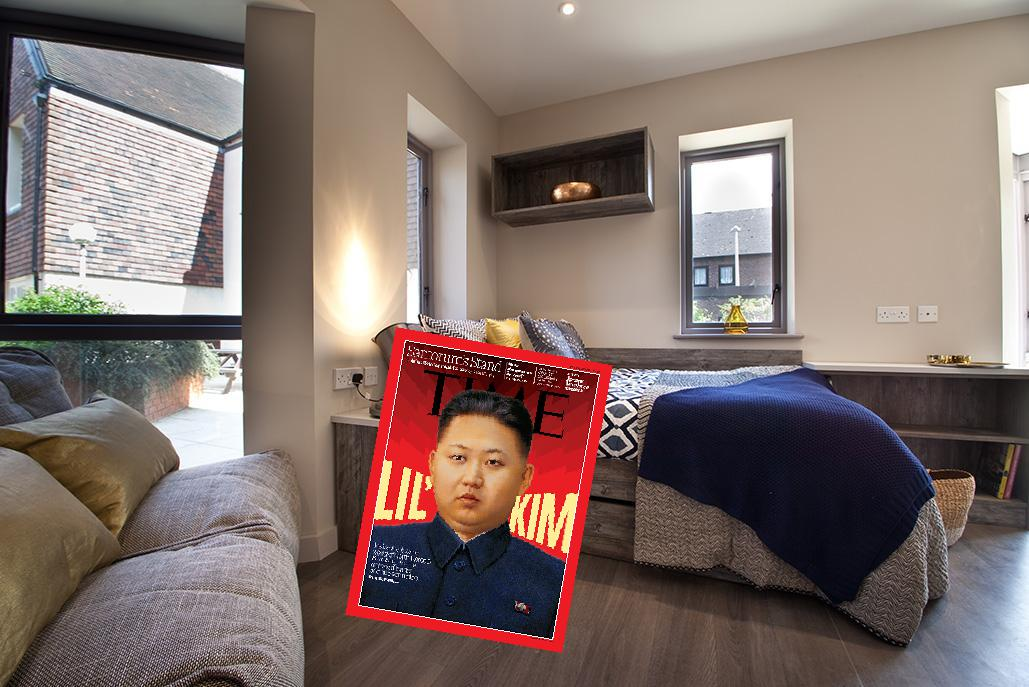times: (339, 322, 622, 657)
